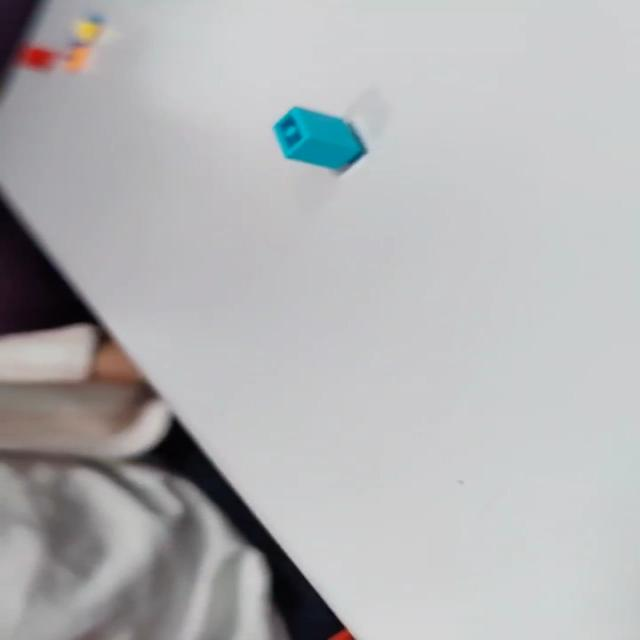C2x1x1: (268, 105, 370, 174)
